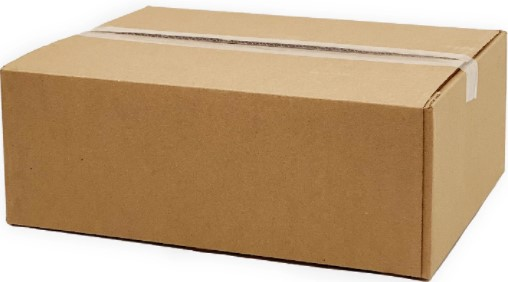stock: (1, 5, 507, 282)
